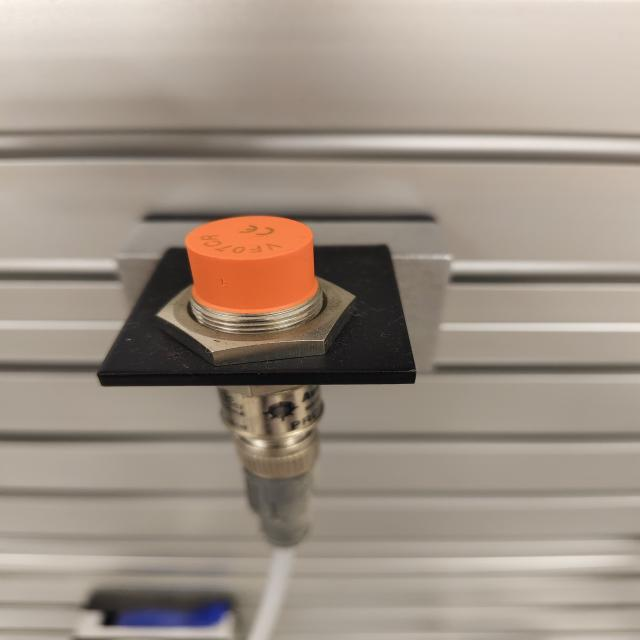inductive sensor: (88, 207, 466, 552)
